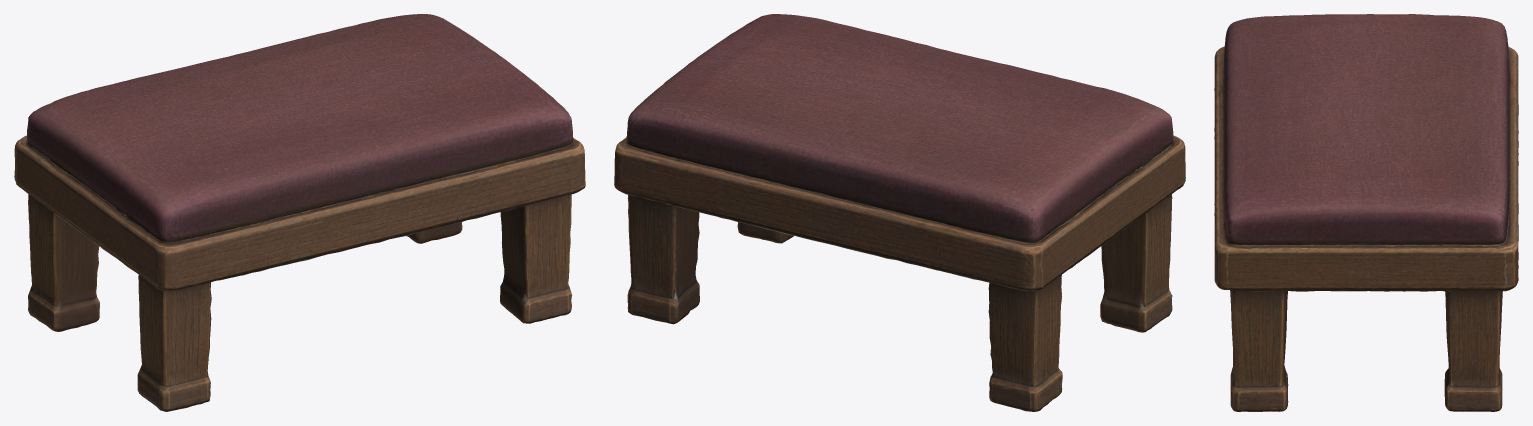
Rendered from Furn_PianoBench.fbx.
The picture shows the model from 3 angles, left to right: view 1: azimuth 30°, elevation 25°; view 2: azimuth 150°, elevation 25°; view 3: azimuth 270°, elevation 25°; orthographic projection.
Visible parts, largest first — view 1: texture_mapping; view 2: texture_mapping; view 3: texture_mapping.
Part boxes in pixels (x1=…): texture_mapping: x1=14, y1=14, x2=585, y2=411; texture_mapping: x1=614, y1=14, x2=1185, y2=411; texture_mapping: x1=1214, y1=14, x2=1518, y2=411.
Size of the model in its own units: 0.9999 by 0.6282 by 0.4838.
Materials: 1 (1 with a texture image).
